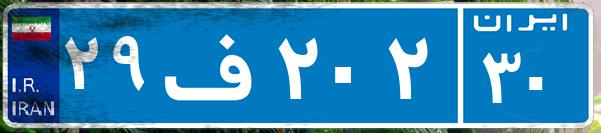0: (330, 28, 385, 110), (525, 38, 570, 115)
2: (385, 28, 445, 110), (273, 28, 330, 110), (57, 26, 110, 107)
3: (475, 38, 525, 113)
9: (110, 28, 158, 105)
ف: (158, 15, 273, 115)
